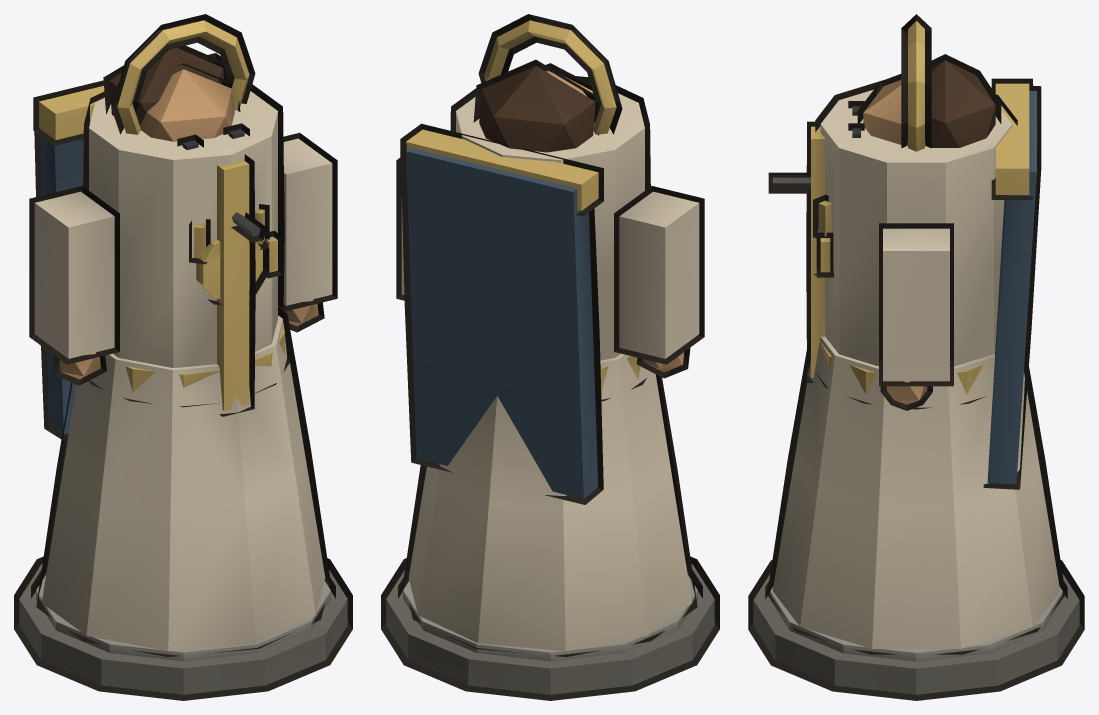
Rendered from pnj_pretresse.glb.
3 views of the same model, side by side, from view 1: azimuth 30°, elevation 25°; view 2: azimuth 150°, elevation 25°; view 3: azimuth 270°, elevation 25° (orthographic).
Visible parts, largest first — view 1: pnj_pretresse, pnj_pretresse_outline; view 2: pnj_pretresse, pnj_pretresse_outline; view 3: pnj_pretresse, pnj_pretresse_outline.
Boxes of the visible parts, x1,y1,x2,y2 form: pnj_pretresse: (19,20,347,694); pnj_pretresse_outline: (14,14,352,700); pnj_pretresse: (386,20,714,694); pnj_pretresse_outline: (381,14,719,700); pnj_pretresse: (753,21,1079,694); pnj_pretresse_outline: (748,14,1084,700).
Size of the model in its own units: 0.7012 by 1.39 by 0.7012.
